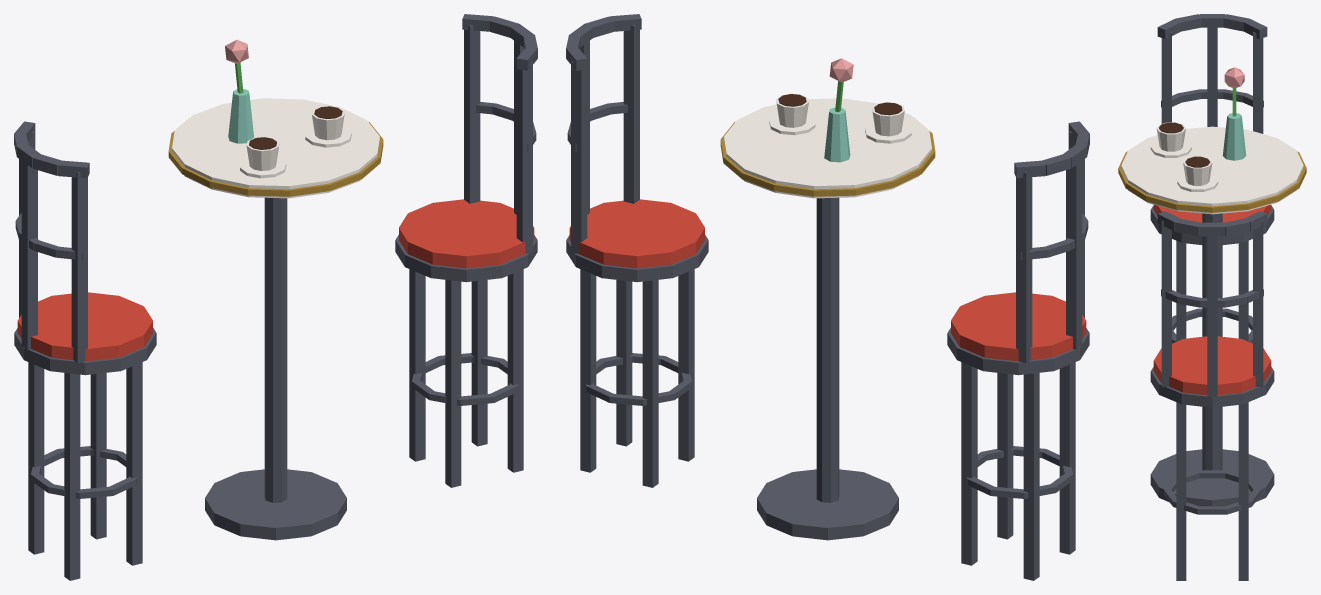
Rendered from CatCafe_Decor_BistroSet.glb.
3 renders of one model, left to right at view 1: azimuth 30°, elevation 25°; view 2: azimuth 150°, elevation 25°; view 3: azimuth 270°, elevation 25°, orthographic. The views are drawn at different scales.
Parts seen in each view (by area): view 1: CatCafe_Decor_BistroSet; view 2: CatCafe_Decor_BistroSet; view 3: CatCafe_Decor_BistroSet.
Boxes of the visible parts, bbox=[...] form: CatCafe_Decor_BistroSet: bbox=[14, 14, 537, 580]; CatCafe_Decor_BistroSet: bbox=[566, 14, 1089, 580]; CatCafe_Decor_BistroSet: bbox=[1118, 14, 1306, 580].
Bounding box in the file's own units: 3.44 × 3.05 × 1.28.
1 material, 1 textured.
